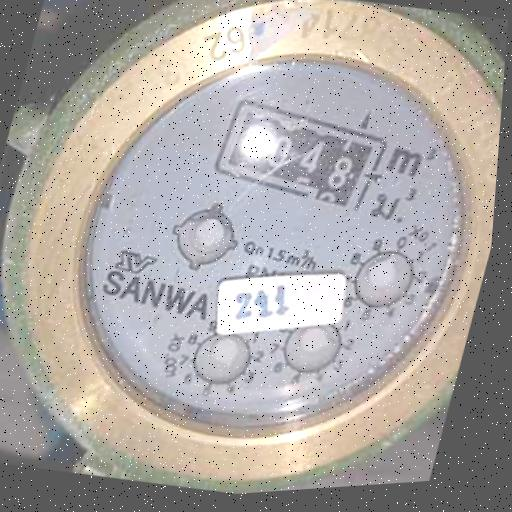0: (254, 114, 308, 182)
4: (284, 123, 342, 192)
8: (311, 131, 375, 211)
border_water_meter_number: (201, 83, 398, 226)
